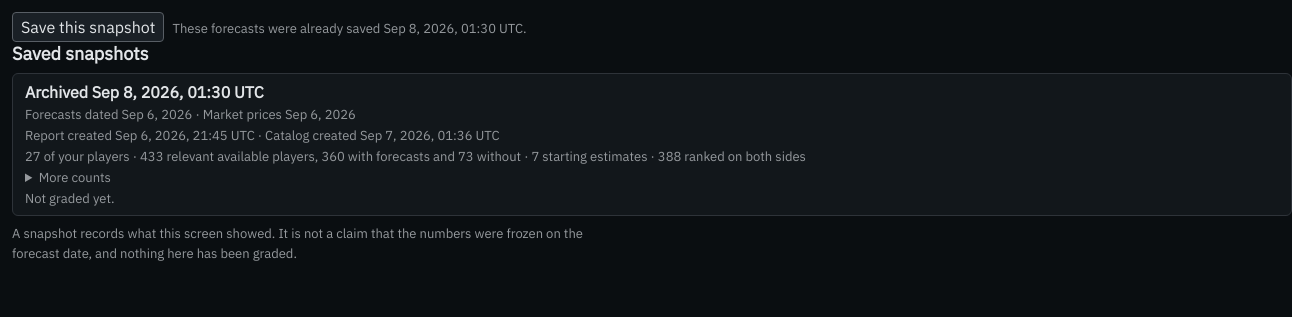
Scenario: the amended receipt › keeps market players, market picks and the whole catalog apart from the relevant pool
The image size is (1292, 317).
Step 1. Click the heading "More counts" → [75, 178], box [39,169,111,186]
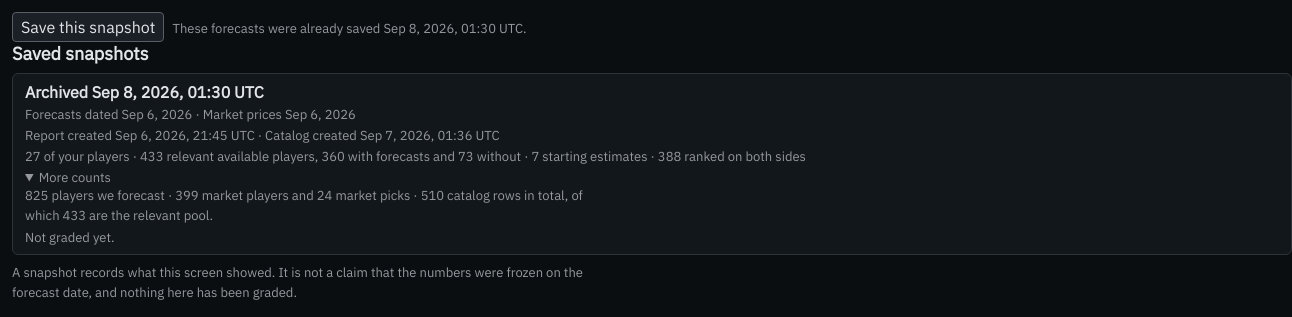
Check: the text "825 players we forecast · 399 market players and 24 market picks · 510 catalog rows in total, of which 433 are the relev" is shown, box [25,187,583,224]
